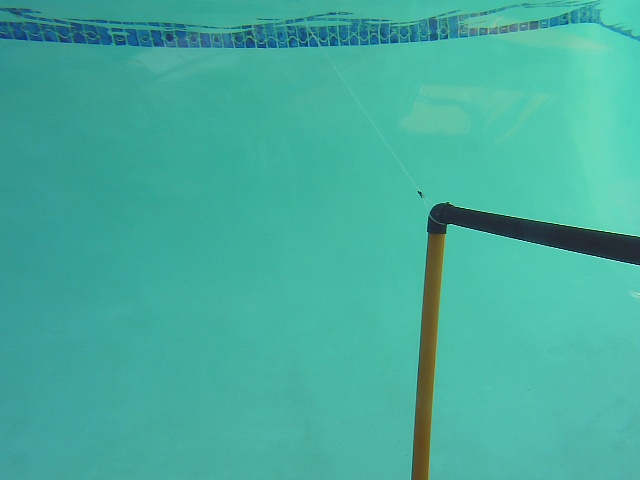Gate: (407, 228, 449, 480)
